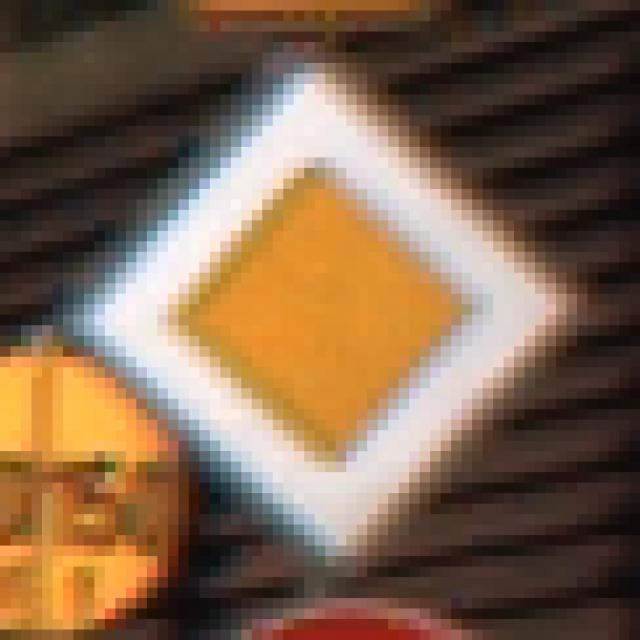Main Road: (64, 54, 588, 589)
